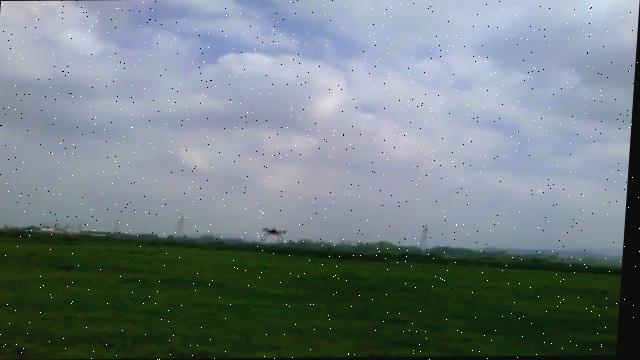drone: (260, 223, 291, 243)
